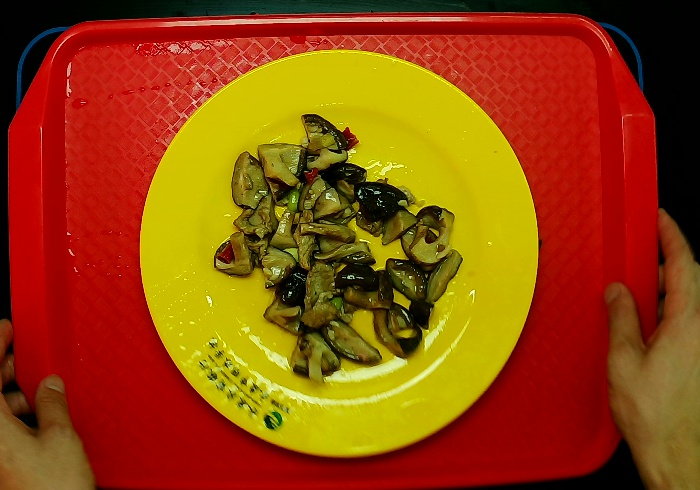YKMZ-Huang_Se_Mian_Pan: (136, 48, 542, 462)
